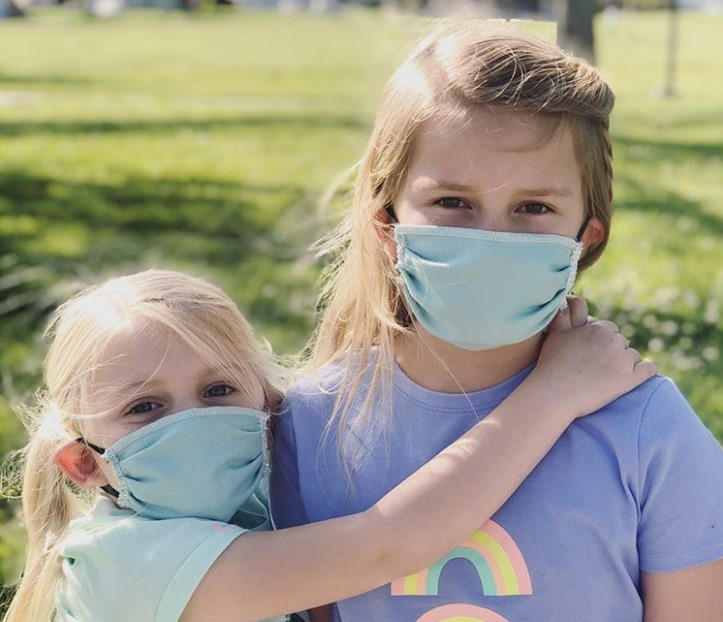face_with_mask: (366, 22, 612, 356), (54, 266, 276, 527)
